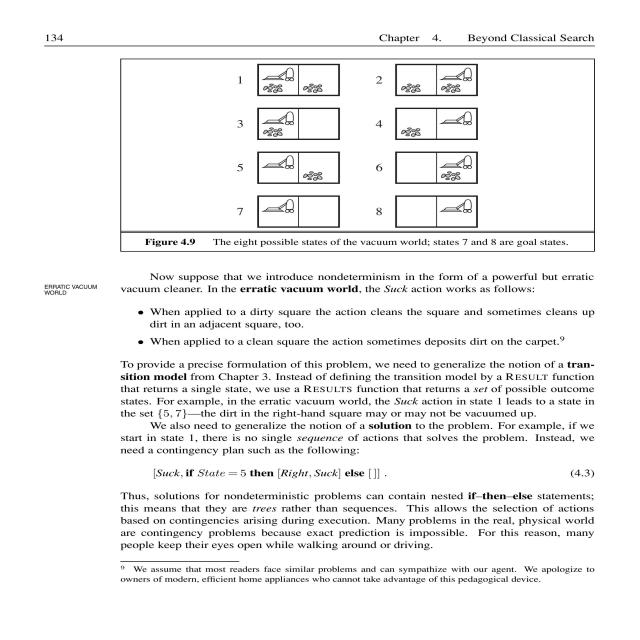diagram: (91, 51, 640, 264)
